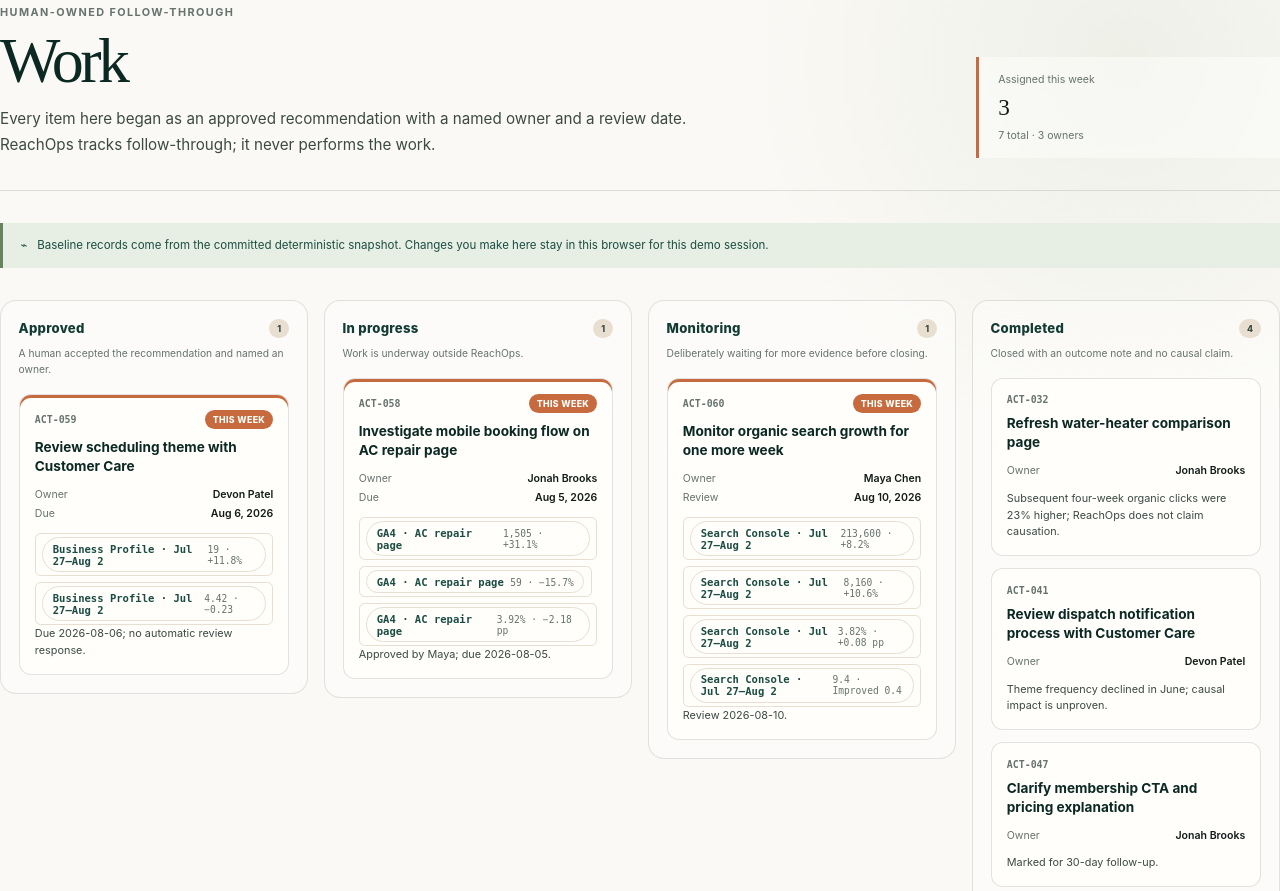
it: ActionsView › moves work forward and records the change in history
Click the button "Review scheduling theme with Customer Care" at (154, 457), box [35,438,273,475]
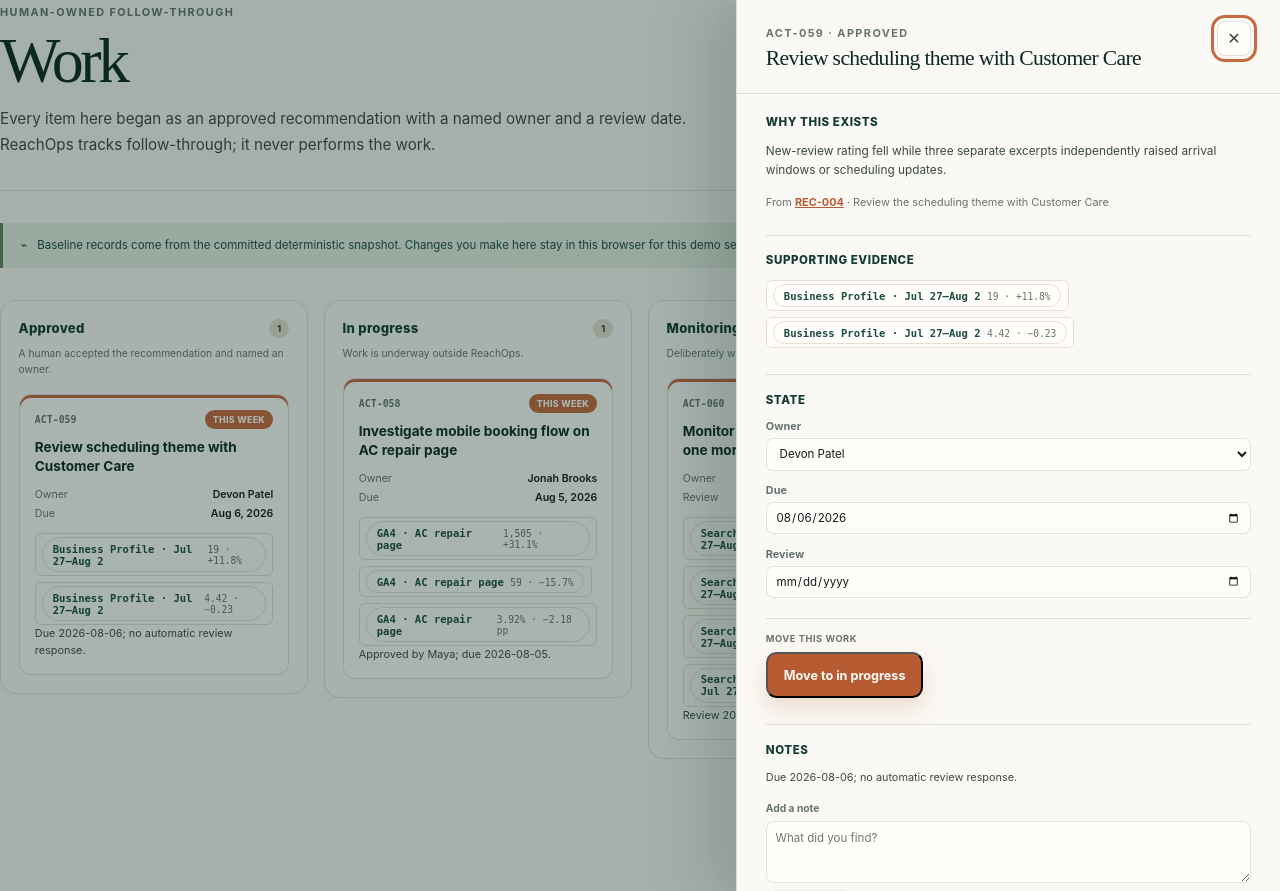
Click the button "Move to in progress" at (845, 675), box [766,652,924,698]
(page scrolled)
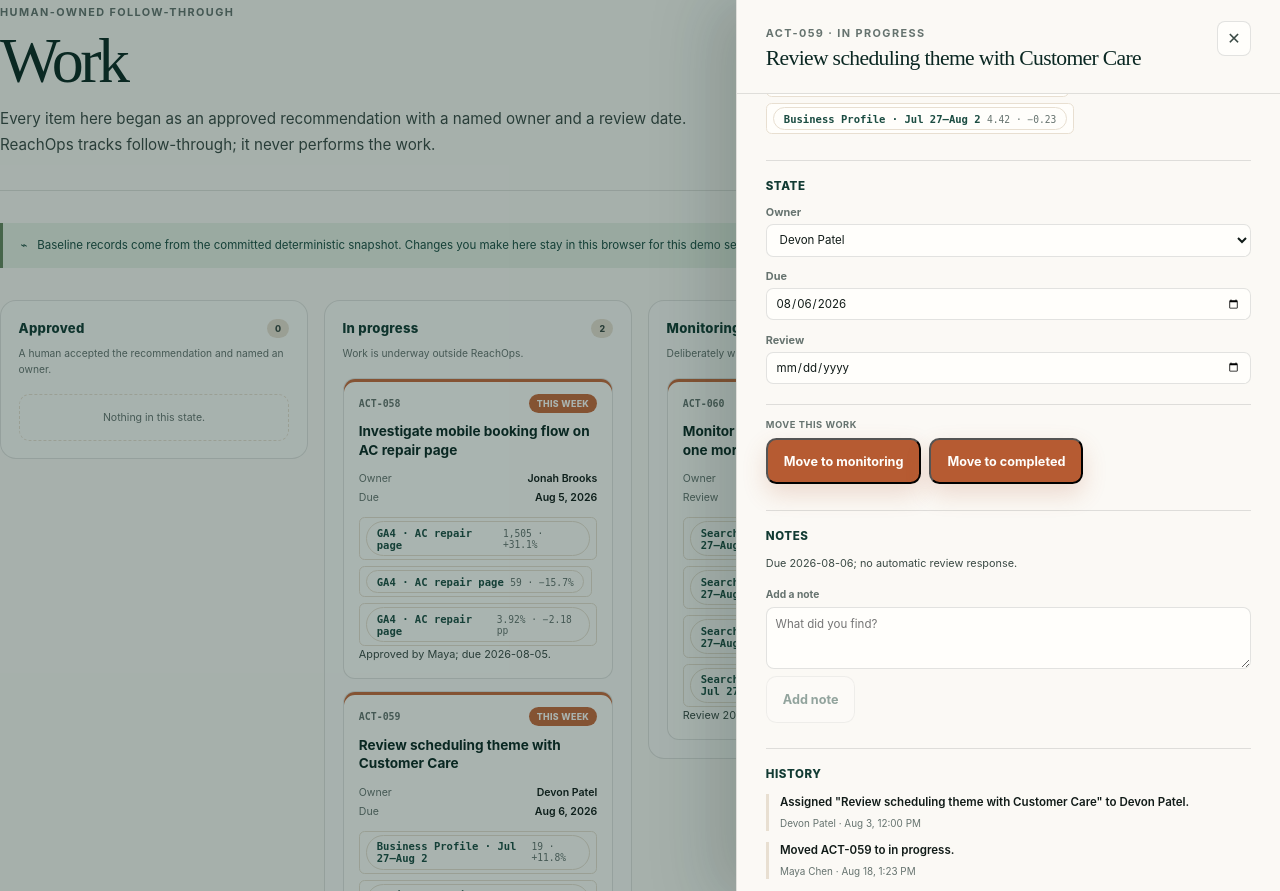
Now the text "Moved ACT-059 to in progress." is shown, box [780,843,954,857]
